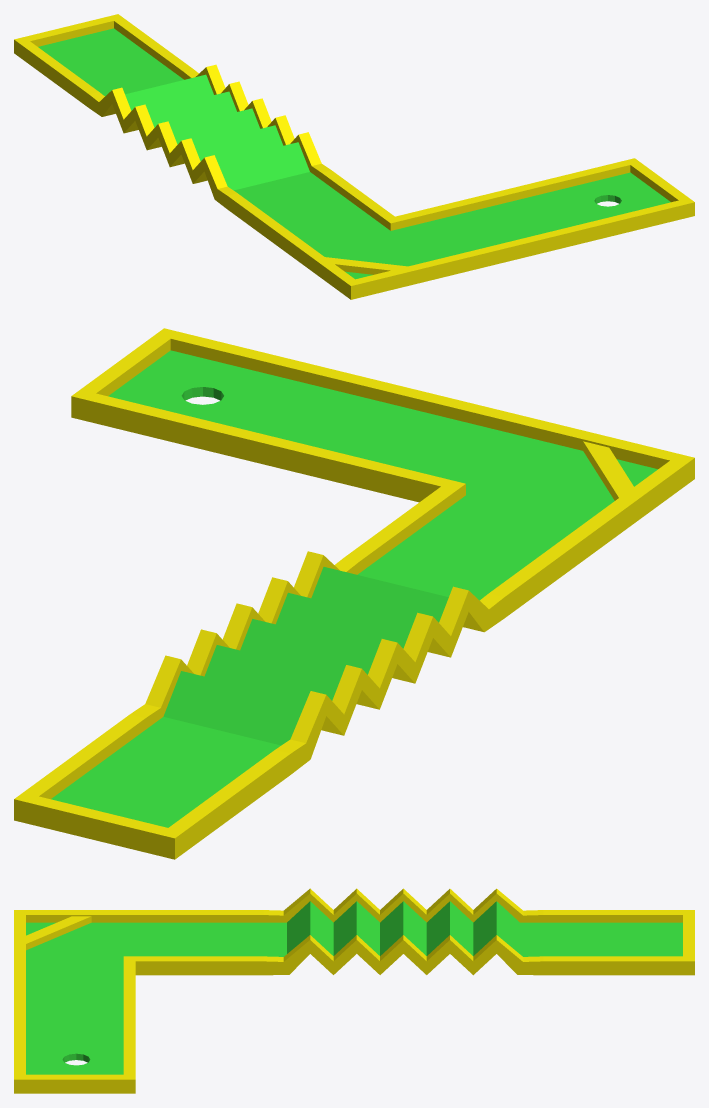
Rendered from Bahn2.fbx.
3 renders of one model, top to bottom at view 1: azimuth 30°, elevation 25°; view 2: azimuth 150°, elevation 25°; view 3: azimuth 270°, elevation 25°, orthographic. The views are drawn at different scales.
Parts seen in each view (by area): view 1: BahnF3; view 2: BahnF3; view 3: BahnF3.
Part boxes in pixels (x1,y1,x2,y2): BahnF3: (14,14,694,299); BahnF3: (14,328,694,859); BahnF3: (14,888,694,1093).
Bounding box in the file's own units: 287 × 28 × 487.
